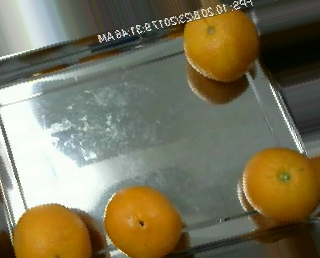Orange: (241, 145, 320, 220), (182, 6, 258, 83), (102, 185, 183, 255), (14, 202, 92, 258)
